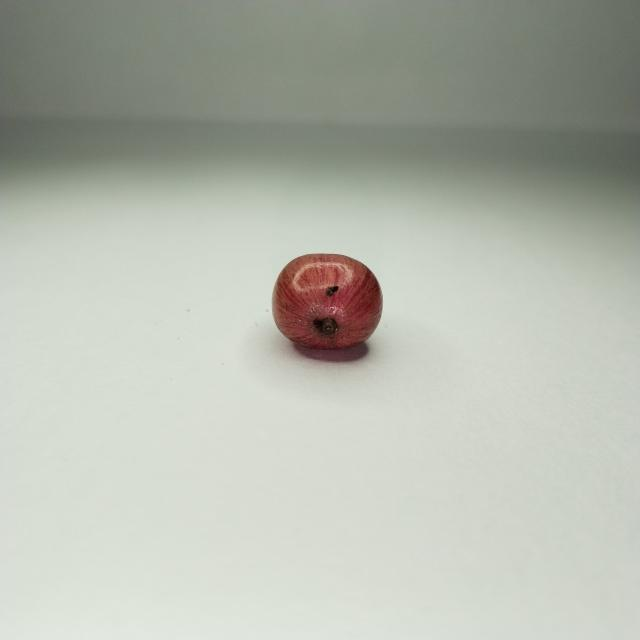Infectado: (272, 254, 383, 348)
